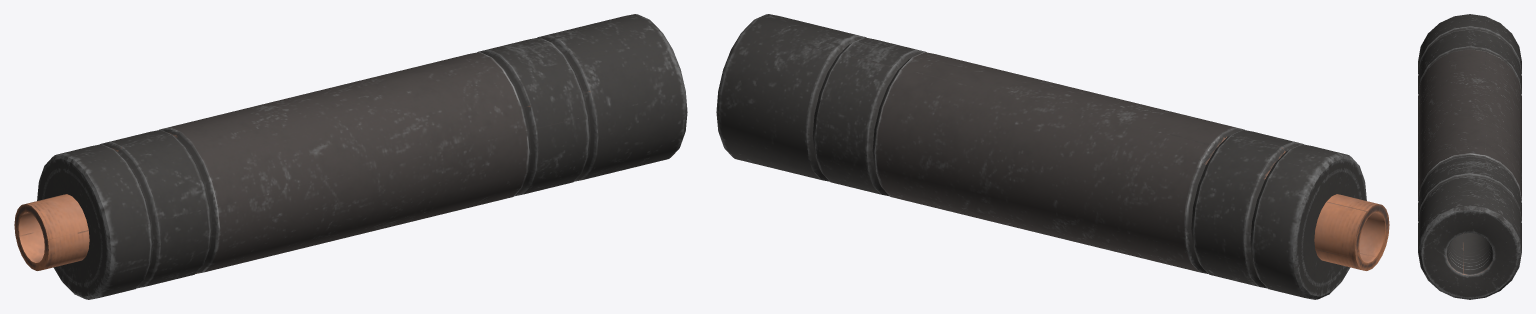
File: Salnser.fbx
The picture shows the model from 3 angles, left to right: view 1: azimuth 30°, elevation 25°; view 2: azimuth 150°, elevation 25°; view 3: azimuth 270°, elevation 25°; orthographic projection. The views are drawn at different scales.
Parts seen in each view (by area): view 1: salanser; view 2: salanser; view 3: salanser.
Boxes of the visible parts, left/top/right/bottom form: salanser: left=14, top=14, right=687, bottom=299; salanser: left=716, top=14, right=1389, bottom=299; salanser: left=1418, top=14, right=1521, bottom=299.
Bounding box in the file's own units: 194 × 40.77 × 40.77.
Materials: 1 (1 with a texture image).
